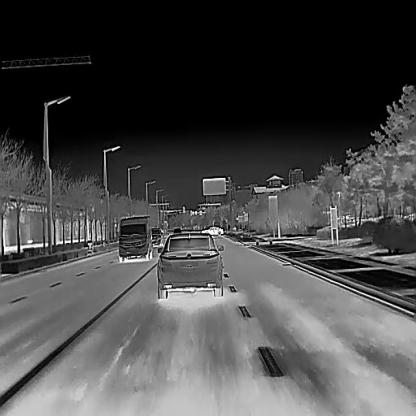car: (154, 229, 224, 298), (200, 225, 224, 235), (150, 225, 162, 245), (172, 226, 182, 234)
truck: (113, 214, 152, 262)
